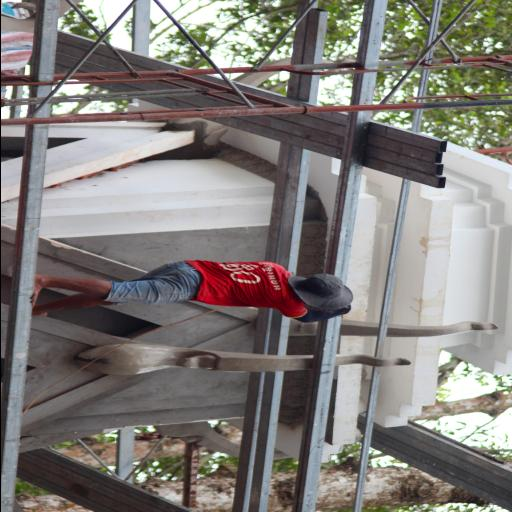ran: (84, 344, 410, 377), (294, 318, 490, 345)
